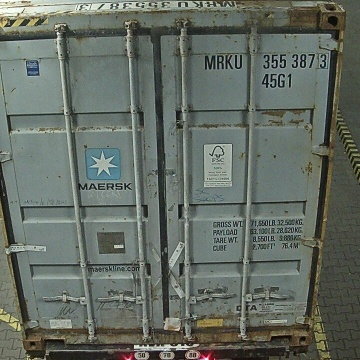serial_id: (205, 53, 328, 69)
